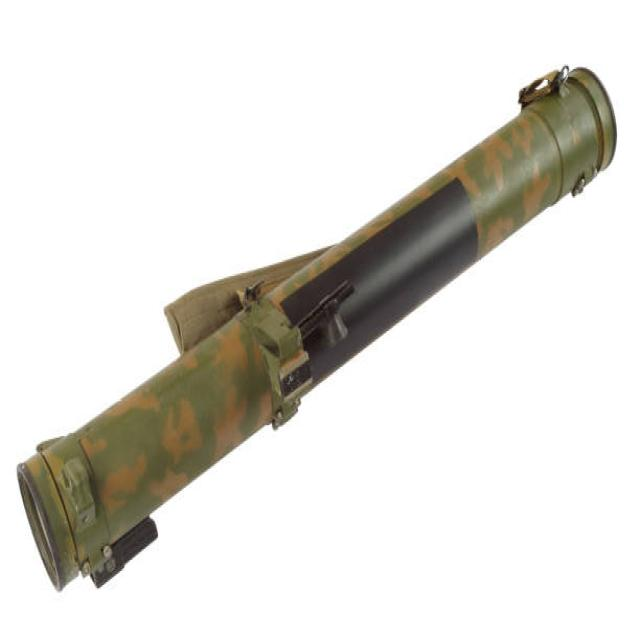bazooka: (8, 58, 622, 609)
